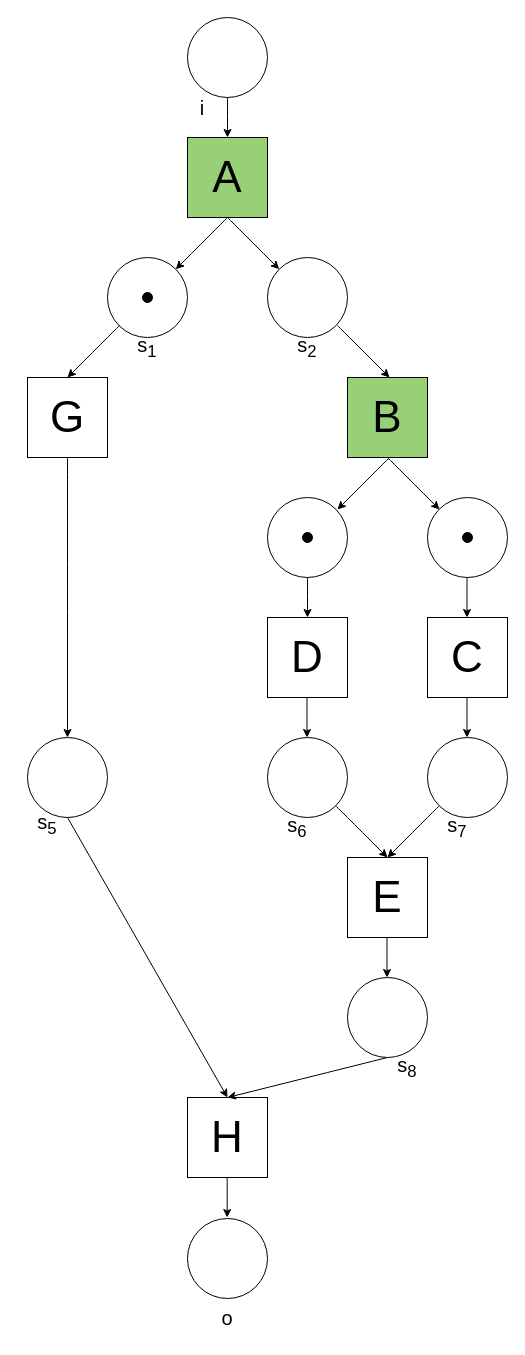
This 525x1355 diagram has some shape labels left out. Here are the shapes that lost their labels. From the top down, the centre of each, then its label:
At pixel 307 537: "s 3".
At pixel 467 537: "s 4".
